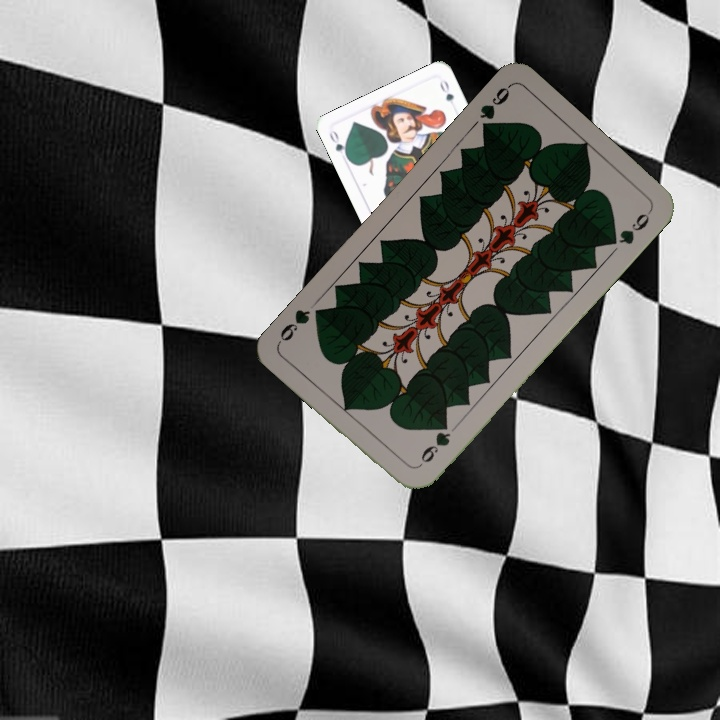G9: (414, 418, 454, 470), (476, 81, 513, 137)
GO: (325, 126, 353, 164)
